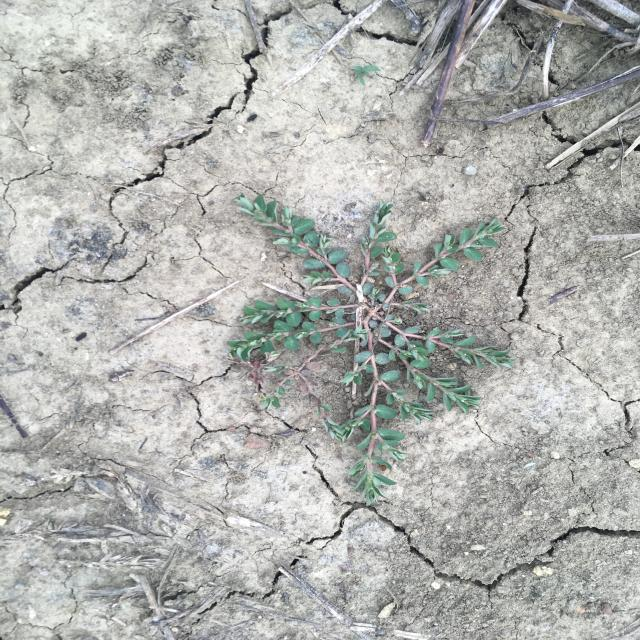SpottedSpurge: (226, 190, 515, 507)
